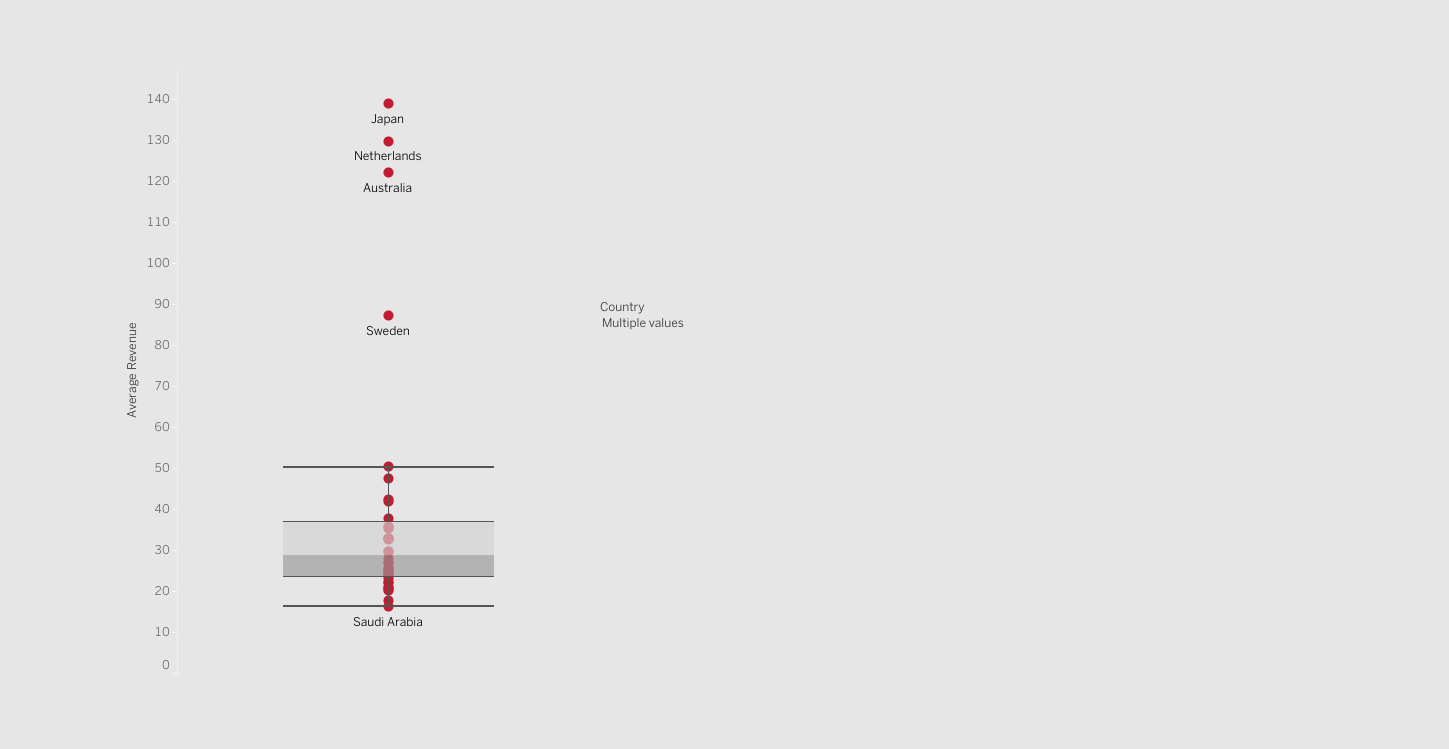

This screenshot's page, from the dashboard's own definition file:
{"tool":"tableau","page":{"name":"AOV","canvas":[1450,750],"ordinal":0},"visuals":[{"type":"worksheet","title":"Average Order Revenue by Country","mark":"Circle","rows":["Calculation_1441996330369675264"],"box":[117,70,483,603]},{"type":"filter","title":"Average Order Revenue by Country","param":"[federated.120o6hi1b9q1li126ojbf0d454lv].[none:Country:nk]","box":[600,298,159,72]}]}

Visuals, with their boxes in screenshot pixels (x1, y1, x2, y2), scaled from the page's 1450x750 canvas onto the 1449x749 screenshot:
"Average Order Revenue by Country" worksheet (Circle marks): bbox=(117, 70, 600, 672)
"Average Order Revenue by Country" filter: bbox=(600, 298, 758, 370)
